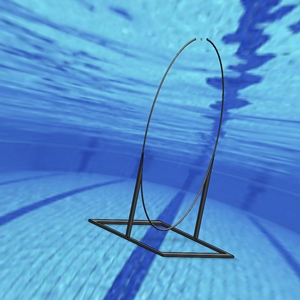circle: (90, 35, 240, 260)
